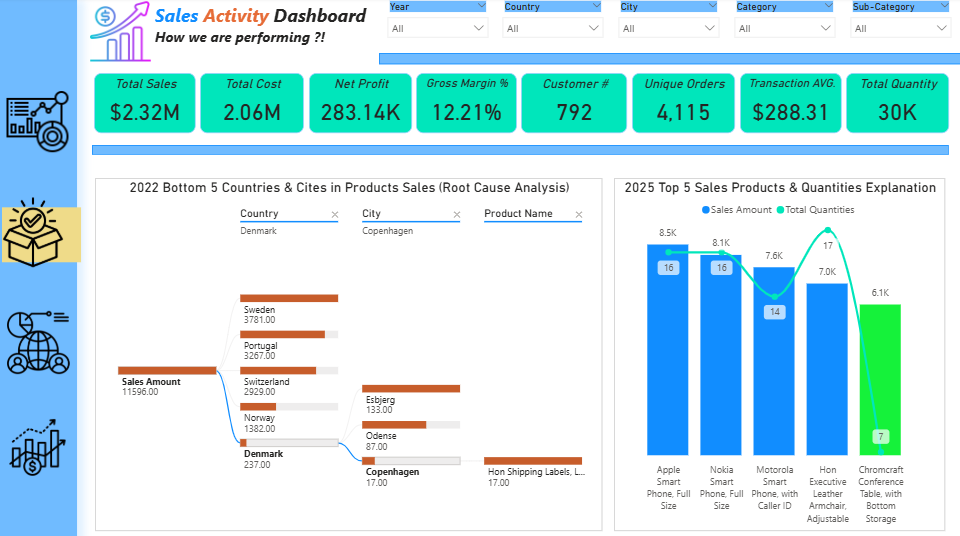

The dashboard page shown, as its layout file describes it:
{"tool":"powerbi","page":{"name":"Products Analysis (Root Cause Analysis)","canvas":[1280,720],"ordinal":1},"visuals":[{"type":"shape","box":[0,0,105.3,720],"z":0},{"type":"decompositionTreeVisual","title":"2022 Bottom 5 Countries & Cites in Products Sales (Root Cause Analysis)","fields":{"Analyze":["Sum(Fact - Sales.Sales (After Discount))"],"ExplainBy":["Dim - Country.Country","Dim - City.City","Dim - Product.Product Name"]},"box":[129.3,240.2,673.6,468.7],"z":1000},{"type":"slicer","fields":{"Values":["Dim - Country.Country"]},"box":[660.5,-0.3,154,62.5],"z":2000,"group":"g2"},{"type":"image","box":[8.5,123.9,88.9,84.2],"z":2000},{"type":"card","title":"Total Sales","fields":{"Values":["_Key Measures.01. Total Sales"]},"box":[127.5,100.6,135.1,79.8],"z":3000,"group":"g2"},{"type":"lineStackedColumnComboChart","title":"2025 Top 5 Sales Products & Quantities Explanation","fields":{"Category":["Dim - Product.Product Name"],"Y2":["Sum(Fact - Sales.Quantity)"],"Y":["Sum(Fact - Sales.Sales (After Discount))"]},"box":[818.1,240.2,440.1,468.7],"z":3000},{"type":"slicer","fields":{"Values":["_Dim - Calendar._Dim Calendar Hierarchy.Year"]},"box":[507.9,-0.3,153.7,62.5],"z":4000,"group":"g2"},{"type":"image","box":[8.5,559,88.9,77.8],"z":4000},{"type":"image","box":[10.1,414.5,85.8,88.9],"z":5000},{"type":"group","id":"g1","title":"Group 3","box":[0,252.1,109.6,127],"z":6000},{"type":"group","id":"g2","title":"Group 1","box":[122.6,-0.3,1157.4,209.5],"z":7000},{"type":"slicer","fields":{"Values":["Dim - City.City"]},"box":[814.5,-0.3,154,61.3],"z":7000,"group":"g2"},{"type":"image","box":[4.8,252.1,104.8,127],"z":8750,"group":"g1"},{"type":"slicer","fields":{"Values":["Dim - Sub-Category.Sub-Category"]},"box":[1122.5,-0.3,154,61.3],"z":9000,"group":"g2"},{"type":"textbox","box":[203.5,2.5,304.9,84.2],"z":10000,"group":"g2"},{"type":"slicer","fields":{"Values":["Dim - Category.Category"]},"box":[968.5,-0.3,154,61.3],"z":12000,"group":"g2"},{"type":"image","box":[122.6,2.5,80.9,86],"z":13000,"group":"g2"},{"type":"image","box":[0,262.1,92.6,98.5],"z":14500,"group":"g1"},{"type":"card","title":"Total Cost","fields":{"Values":["_Key Measures.02. Cost of Goods Sold (COGS)"]},"box":[268.8,100.6,138.2,80.3],"z":16000,"group":"g2"},{"type":"shape","box":[124.6,195.7,1138.3,13.4],"z":17000,"group":"g2"},{"type":"shape","box":[507,74.7,773,15],"z":19000,"group":"g2"},{"type":"card","title":"Net Profit","fields":{"Values":["_Key Measures.03. Net Profit Value"]},"box":[413.1,100.6,136.6,80.3],"z":21000,"group":"g2"},{"type":"card","title":"Total Quantity","fields":{"Values":["_Key Measures.10 Total Quantity"]},"box":[1126.9,100.6,136.6,80.3],"z":23000,"group":"g2"},{"type":"card","title":"Transaction AVG.","fields":{"Values":["_Key Measures.09. Transaction Avg"]},"box":[985.6,100.6,135.1,80.3],"z":24000,"group":"g2"},{"type":"card","title":"Gross Margin %","fields":{"Values":["_Key Measures.04. Gross Margin % (GM %)"]},"box":[555.8,100.6,133.5,80.3],"z":25000,"group":"g2"},{"type":"card","title":"Customer #","fields":{"Values":["_Key Measures.06. Unique Customers"]},"box":[695.5,100.6,141.2,80.3],"z":26000,"group":"g2"},{"type":"card","title":"Unique Orders","fields":{"Values":["_Key Measures.08. Unique Orders"]},"box":[842.9,100.6,136.6,80.3],"z":27000,"group":"g2"}]}

Visuals, with their boxes in screenshot pixels (x1, y1, x2, y2), scaled from the page's 1280x720 canvas onto the 960x536 screenshot:
shape: BBox(0, 0, 79, 535)
"2022 Bottom 5 Countries & Cites in Products Sales (Root Cause Analysis)" decompositionTreeVisual: BBox(97, 179, 602, 528)
slicer - Dim - Country.Country: BBox(495, 0, 611, 46)
image: BBox(6, 92, 73, 155)
"Total Sales" card: BBox(96, 75, 197, 134)
"2025 Top 5 Sales Products & Quantities Explanation" lineStackedColumnComboChart: BBox(614, 179, 944, 528)
slicer - _Dim - Calendar._Dim Calendar Hierarchy.Year: BBox(381, 0, 496, 46)
image: BBox(6, 416, 73, 474)
image: BBox(8, 309, 72, 375)
"Group 3" group: BBox(0, 188, 82, 282)
"Group 1" group: BBox(92, 0, 959, 156)
slicer - Dim - City.City: BBox(611, 0, 726, 45)
image: BBox(4, 188, 82, 282)
slicer - Dim - Sub-Category.Sub-Category: BBox(842, 0, 957, 45)
textbox: BBox(153, 2, 381, 65)
slicer - Dim - Category.Category: BBox(726, 0, 842, 45)
image: BBox(92, 2, 153, 66)
image: BBox(0, 195, 69, 268)
"Total Cost" card: BBox(202, 75, 305, 135)
shape: BBox(93, 146, 947, 156)
shape: BBox(380, 56, 959, 67)
"Net Profit" card: BBox(310, 75, 412, 135)
"Total Quantity" card: BBox(845, 75, 948, 135)
"Transaction AVG." card: BBox(739, 75, 841, 135)
"Gross Margin %" card: BBox(417, 75, 517, 135)
"Customer #" card: BBox(522, 75, 628, 135)
"Unique Orders" card: BBox(632, 75, 735, 135)
